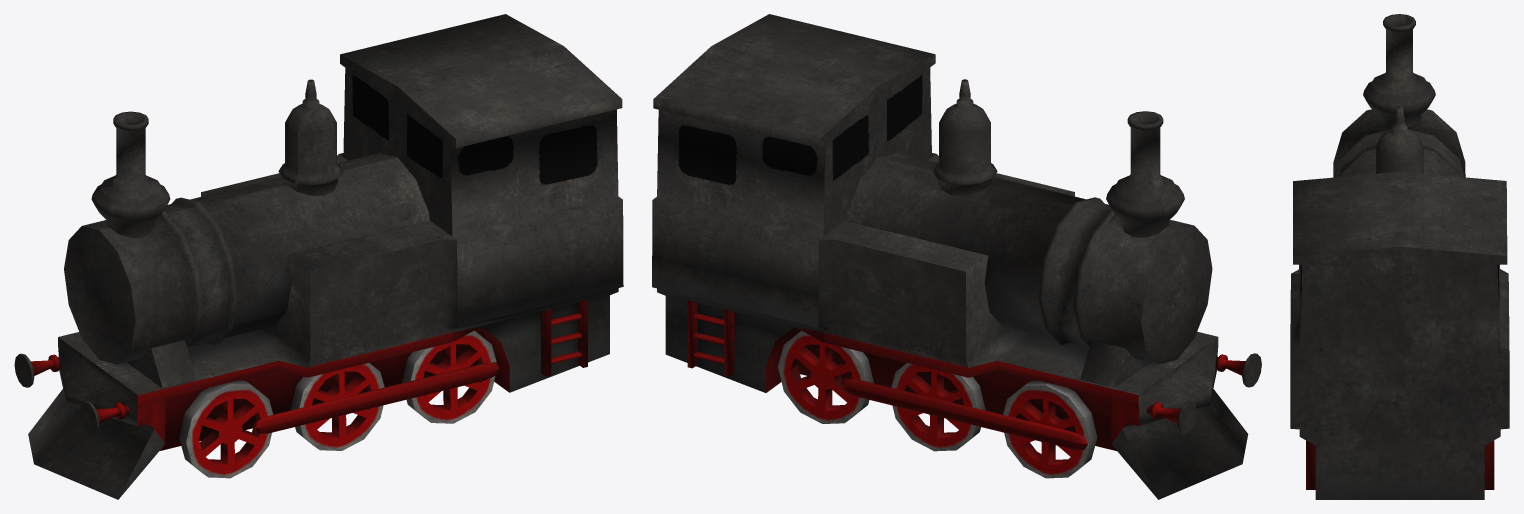
Rendered from steam-engine.glb.
3 renders of one model, left to right at view 1: azimuth 30°, elevation 25°; view 2: azimuth 150°, elevation 25°; view 3: azimuth 270°, elevation 25°, orthographic. The views are drawn at different scales.
Parts seen in each view (by area): view 1: stklib_steamLocomotive_a.png__; view 2: stklib_steamLocomotive_a.png__; view 3: stklib_steamLocomotive_a.png__.
Boxes of the visible parts, x1,y1,x2,y2 form: stklib_steamLocomotive_a.png__: (14, 14, 623, 499); stklib_steamLocomotive_a.png__: (652, 14, 1261, 499); stklib_steamLocomotive_a.png__: (1290, 14, 1509, 499).
Bounding box in the file's own units: 5.71 × 3.54 × 2.22.
1 material, 1 textured.
